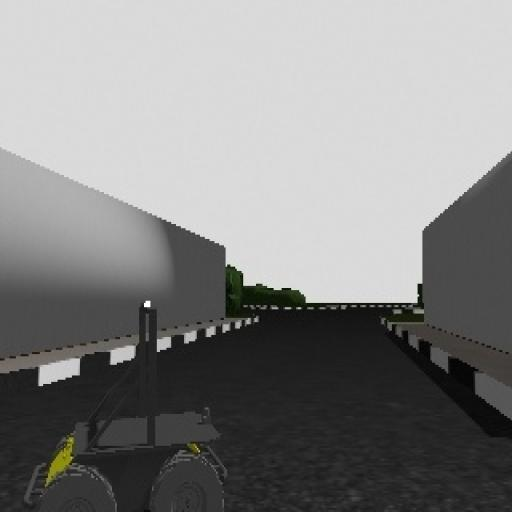huskya200: (6, 294, 259, 512)
